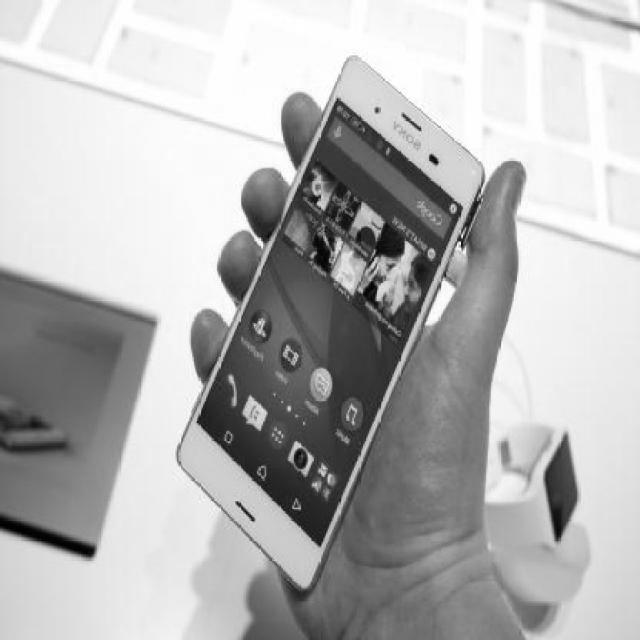fake: (177, 55, 488, 594), (0, 390, 66, 455)
